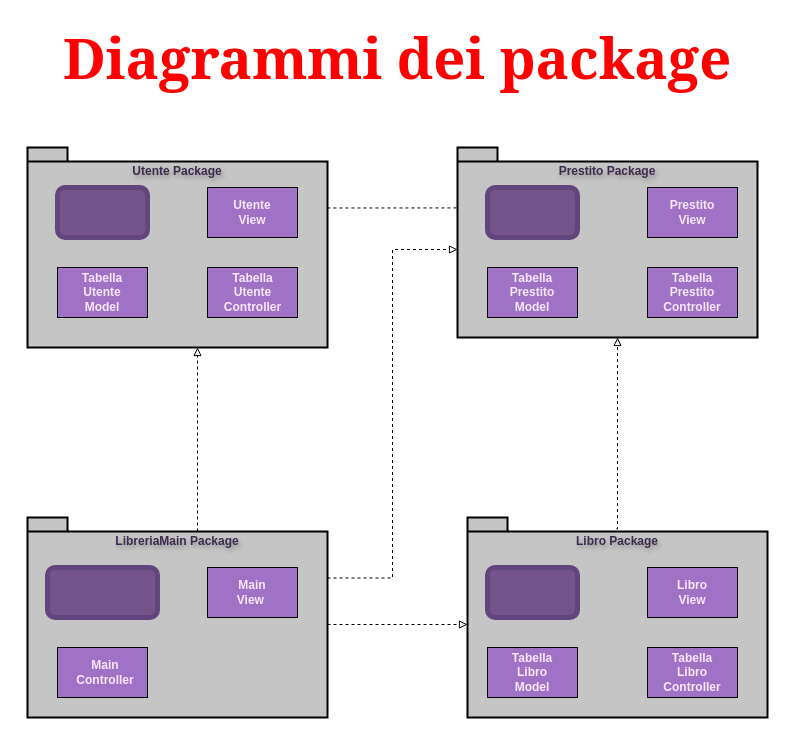
This 794x735 diagram has some shape labels left out. The centre of each missing label's shape, as x and y in pixels:
LibreriaMain: (x=102, y=592)
Libro: (x=532, y=592)
Prestito: (x=532, y=212)
Utente: (x=102, y=212)
